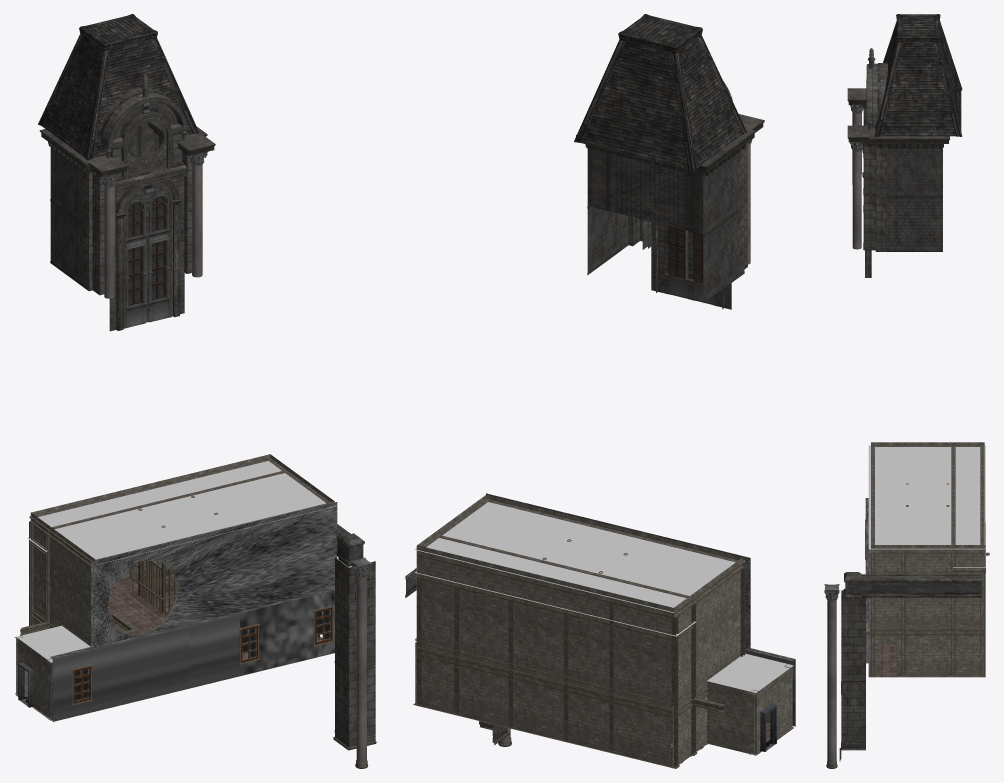
The picture shows the model from 3 angles, left to right: view 1: azimuth 30°, elevation 25°; view 2: azimuth 150°, elevation 25°; view 3: azimuth 270°, elevation 25°; orthographic projection. The views are drawn at different scales.
Parts seen in each view (by area): view 1: LOD_1_Group_0_Sub_8__Wall_Mat, LOD_1_Group_0_Sub_9__st2_policeWest3f4fCeiling03, LOD_1_Group_0_Sub_14__st1_townPolice00_Mat, LOD_1_Group_0_Sub_12__st1_townPoliceRoof_Mat, LOD_1_Group_0_Sub_15__st1_townPolice01_Mat, LOD_1_Group_0_Sub_7__st2_policeWest3f4fWall03, LOD_1_Group_0_Sub_1__st2_policeWest3f4fFrame01, LOD_1_Group_0_Sub_18__st1_townPolice00_Mat1, LOD_1_Group_0_Sub_16__st1_townPoliceparts00_Mat, LOD_1_Group_0_Sub_13__st1_townPoliceparts01_Mat, LOD_1_Group_0_Sub_17__st1_townPoliceparts01_Mat1, LOD_1_Group_0_Sub_11__st1_PoliceWinEmissive_Mat (+3 smaller); view 2: LOD_1_Group_0_Sub_7__st2_policeWest3f4fWall03, LOD_1_Group_0_Sub_9__st2_policeWest3f4fCeiling03, LOD_1_Group_0_Sub_12__st1_townPoliceRoof_Mat, LOD_1_Group_0_Sub_15__st1_townPolice01_Mat, LOD_1_Group_0_Sub_1__st2_policeWest3f4fFrame01, LOD_1_Group_0_Sub_14__st1_townPolice00_Mat, LOD_1_Group_0_Sub_8__Wall_Mat, LOD_1_Group_0_Sub_16__st1_townPoliceparts00_Mat, LOD_1_Group_0_Sub_11__st1_PoliceWinEmissive_Mat; view 3: LOD_1_Group_0_Sub_7__st2_policeWest3f4fWall03, LOD_1_Group_0_Sub_9__st2_policeWest3f4fCeiling03, LOD_1_Group_0_Sub_12__st1_townPoliceRoof_Mat, LOD_1_Group_0_Sub_15__st1_townPolice01_Mat, LOD_1_Group_0_Sub_18__st1_townPolice00_Mat1, LOD_1_Group_0_Sub_1__st2_policeWest3f4fFrame01, LOD_1_Group_0_Sub_14__st1_townPolice00_Mat, LOD_1_Group_0_Sub_17__st1_townPoliceparts01_Mat1, LOD_1_Group_0_Sub_13__st1_townPoliceparts01_Mat, LOD_1_Group_0_Sub_6__st2_policeWest3f4fFloor01, LOD_1_Group_0_Sub_8__Wall_Mat.
Part boxes in pixels (x1,y1,x2,y2): LOD_1_Group_0_Sub_8__Wall_Mat: (50,502,337,721); LOD_1_Group_0_Sub_9__st2_policeWest3f4fCeiling03: (16,461,337,662); LOD_1_Group_0_Sub_14__st1_townPolice00_Mat: (82,88,191,330); LOD_1_Group_0_Sub_12__st1_townPoliceRoof_Mat: (38,14,199,160); LOD_1_Group_0_Sub_15__st1_townPolice01_Mat: (39,101,215,331); LOD_1_Group_0_Sub_7__st2_policeWest3f4fWall03: (16,454,334,720); LOD_1_Group_0_Sub_1__st2_policeWest3f4fFrame01: (14,458,333,719); LOD_1_Group_0_Sub_18__st1_townPolice00_Mat1: (333,524,376,750); LOD_1_Group_0_Sub_16__st1_townPoliceparts00_Mat: (105,74,186,327); LOD_1_Group_0_Sub_13__st1_townPoliceparts01_Mat: (100,151,207,298); LOD_1_Group_0_Sub_17__st1_townPoliceparts01_Mat1: (350,557,372,768); LOD_1_Group_0_Sub_11__st1_PoliceWinEmissive_Mat: (128,197,163,304); LOD_1_Group_0_Sub_7__st2_policeWest3f4fWall03: (415,494,792,768); LOD_1_Group_0_Sub_9__st2_policeWest3f4fCeiling03: (414,502,793,692); LOD_1_Group_0_Sub_12__st1_townPoliceRoof_Mat: (574,14,746,170); LOD_1_Group_0_Sub_15__st1_townPolice01_Mat: (576,114,764,309); LOD_1_Group_0_Sub_1__st2_policeWest3f4fFrame01: (415,499,793,768); LOD_1_Group_0_Sub_14__st1_townPolice00_Mat: (622,81,747,309); LOD_1_Group_0_Sub_8__Wall_Mat: (486,493,795,726); LOD_1_Group_0_Sub_16__st1_townPoliceparts00_Mat: (664,226,713,304); LOD_1_Group_0_Sub_11__st1_PoliceWinEmissive_Mat: (669,226,703,281); LOD_1_Group_0_Sub_7__st2_policeWest3f4fWall03: (869,442,989,675); LOD_1_Group_0_Sub_9__st2_policeWest3f4fCeiling03: (868,445,985,567); LOD_1_Group_0_Sub_12__st1_townPoliceRoof_Mat: (874,14,962,136); LOD_1_Group_0_Sub_15__st1_townPolice01_Mat: (847,88,949,251); LOD_1_Group_0_Sub_18__st1_townPolice00_Mat1: (839,572,981,761); LOD_1_Group_0_Sub_1__st2_policeWest3f4fFrame01: (865,445,985,676); LOD_1_Group_0_Sub_14__st1_townPolice00_Mat: (863,63,887,277); LOD_1_Group_0_Sub_17__st1_townPoliceparts01_Mat1: (824,584,839,768); LOD_1_Group_0_Sub_13__st1_townPoliceparts01_Mat: (850,105,863,249); LOD_1_Group_0_Sub_6__st2_policeWest3f4fFloor01: (868,621,985,677); LOD_1_Group_0_Sub_8__Wall_Mat: (865,498,870,621).
Size of what is drawn, in the model's own units: 19.64 by 45.03 by 10.26.
